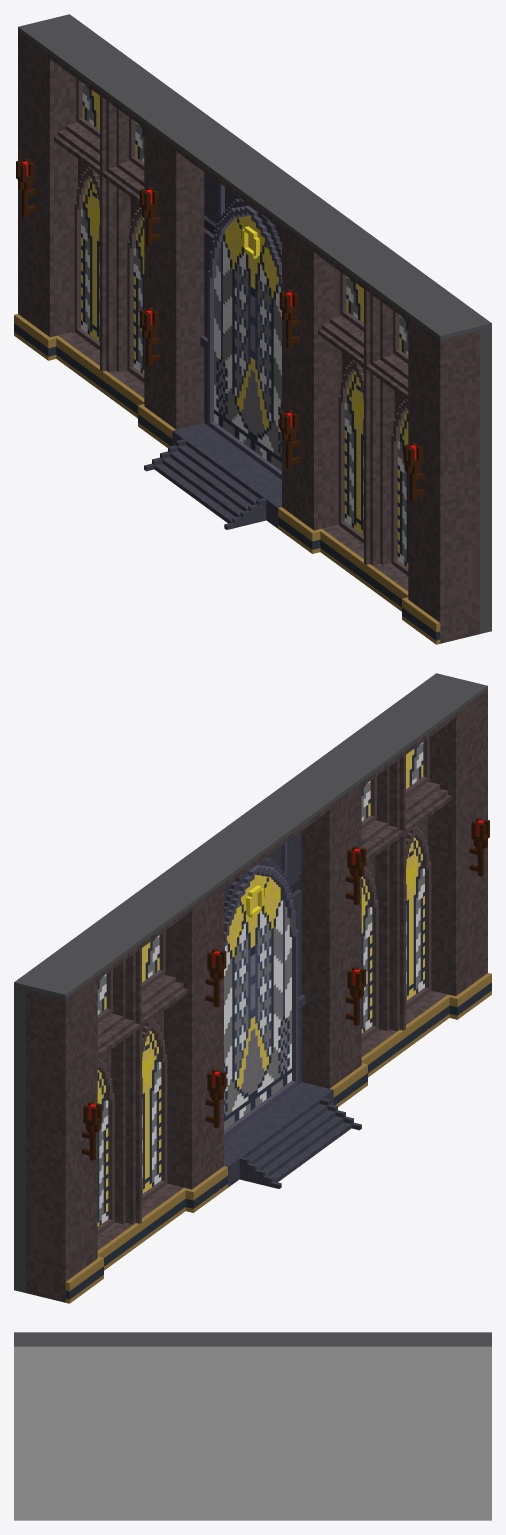
The model's file is Wall.fbx.
The picture shows the model from 3 angles, top to bottom: view 1: azimuth 30°, elevation 25°; view 2: azimuth 150°, elevation 25°; view 3: azimuth 270°, elevation 25°; orthographic projection. The views are drawn at different scales.
Parts seen in each view (by area): view 1: 동아리\Stage1-014; view 2: 동아리\Stage1-014; view 3: 동아리\Stage1-014.
Boxes of the visible parts, left/top/right/bottom form: 동아리\Stage1-014: left=14, top=14, right=491, bottom=644; 동아리\Stage1-014: left=14, top=673, right=491, bottom=1303; 동아리\Stage1-014: left=14, top=1332, right=491, bottom=1520.
Size of the model in its own units: 16.61 by 51.21 by 127.
